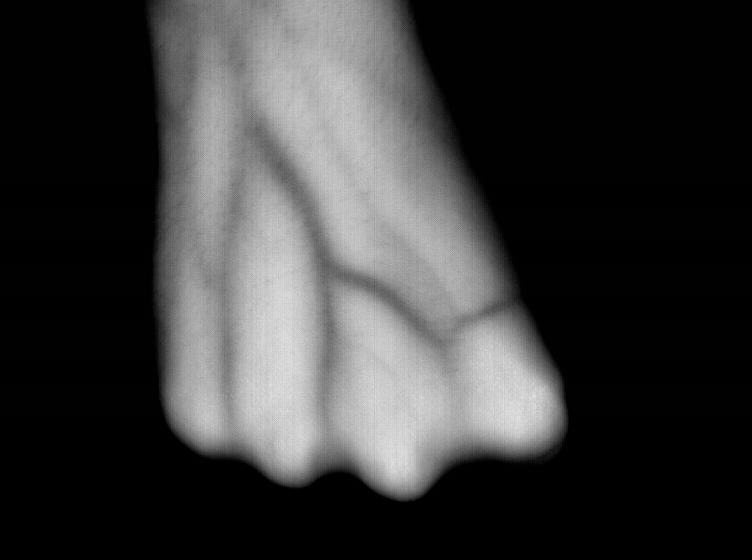Vein: (212, 134, 441, 383)
